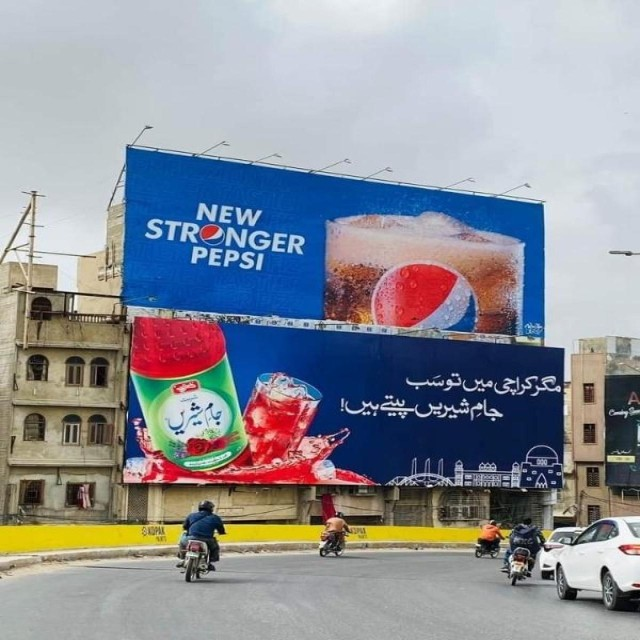pepsi: (371, 262, 488, 332), (198, 224, 227, 247)
